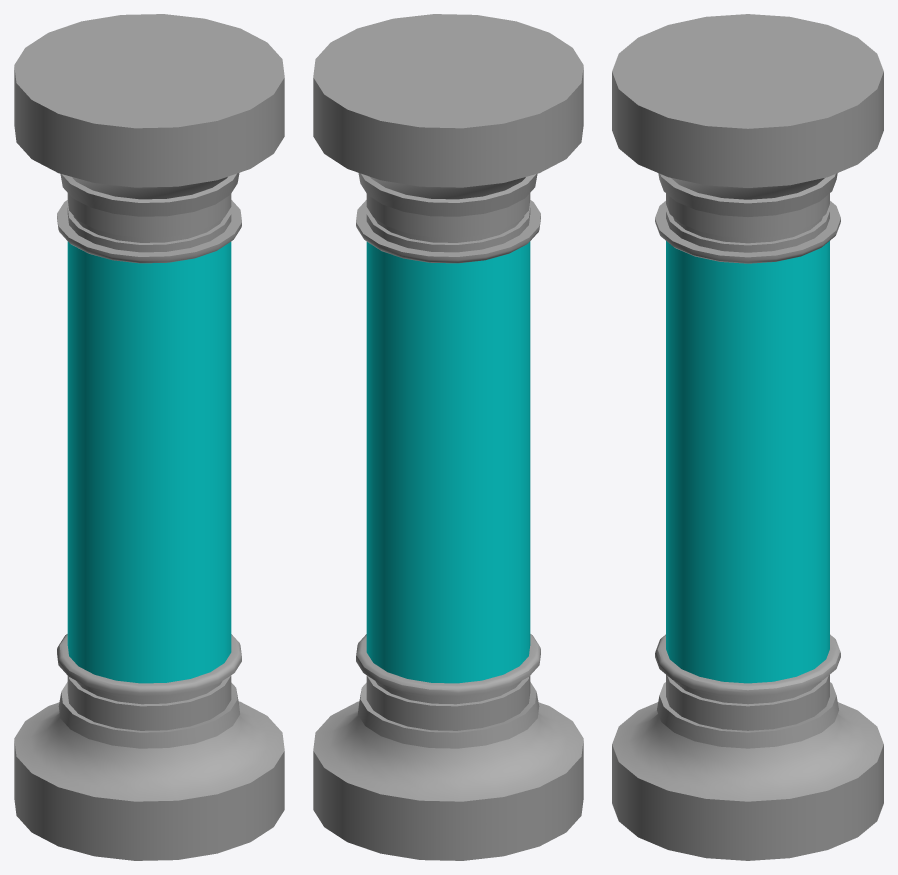
Rendered from Mod_Resevoir.fbx.
3 views of the same model, side by side, from view 1: azimuth 30°, elevation 25°; view 2: azimuth 150°, elevation 25°; view 3: azimuth 270°, elevation 25° (orthographic).
Visible parts, largest first — view 1: Mod_Resevoir; view 2: Mod_Resevoir; view 3: Mod_Resevoir.
Part boxes in pixels (x1,y1,x2,y2): Mod_Resevoir: [14, 14, 284, 860]; Mod_Resevoir: [313, 14, 583, 860]; Mod_Resevoir: [612, 14, 883, 860].
Bounding box in the file's own units: 217 × 644 × 217.
